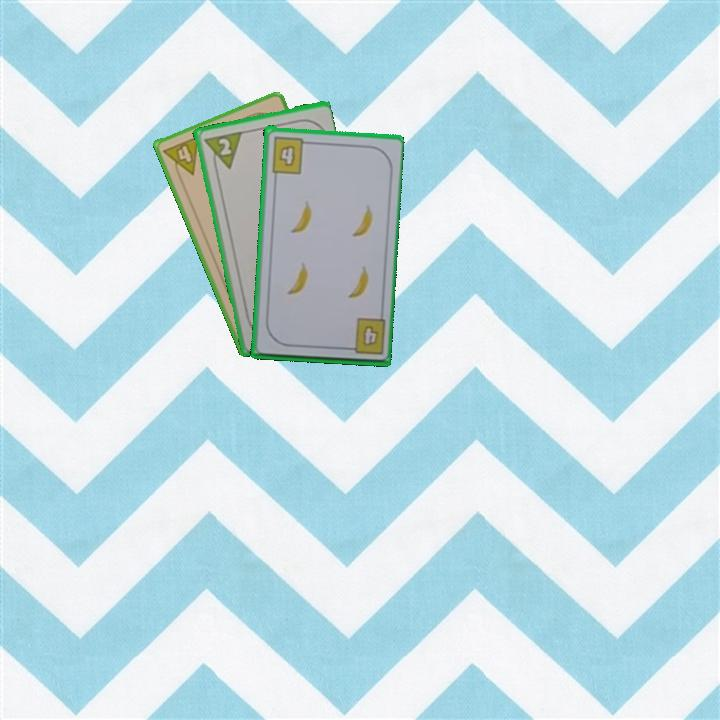2p: (214, 134, 234, 158)
4b: (268, 133, 312, 176), (359, 321, 381, 349)
4p: (160, 132, 202, 183)
